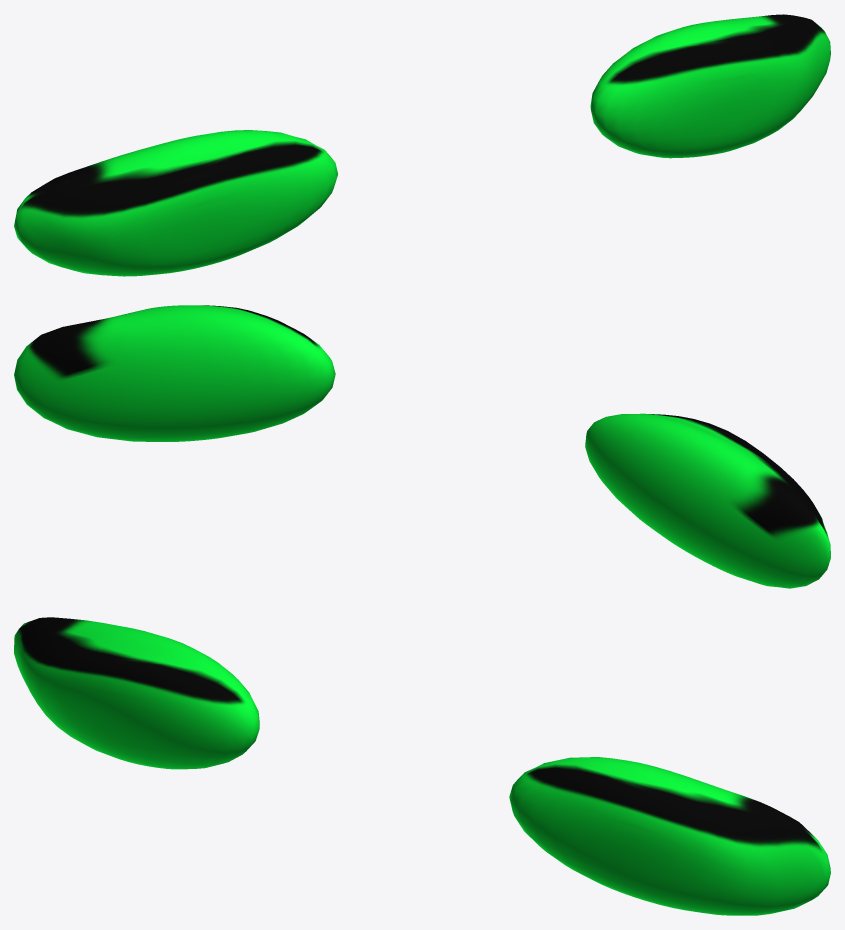
The model's file is Zombie-Green.glb.
3 views of the same model, one above another, from view 1: azimuth 30°, elevation 25°; view 2: azimuth 150°, elevation 25°; view 3: azimuth 330°, elevation 25° (orthographic).
Parts seen in each view (by area): view 1: Sphere.002; view 2: Sphere.002; view 3: Sphere.002.
Boxes of the visible parts, box(x1,y1,x2,y2) form: Sphere.002: box(14, 14, 830, 276); Sphere.002: box(14, 305, 830, 588); Sphere.002: box(14, 617, 830, 915).
Size of the model in its own units: 0.3777 by 0.0623 by 0.0485.
Materials: 1 (1 with a texture image).
